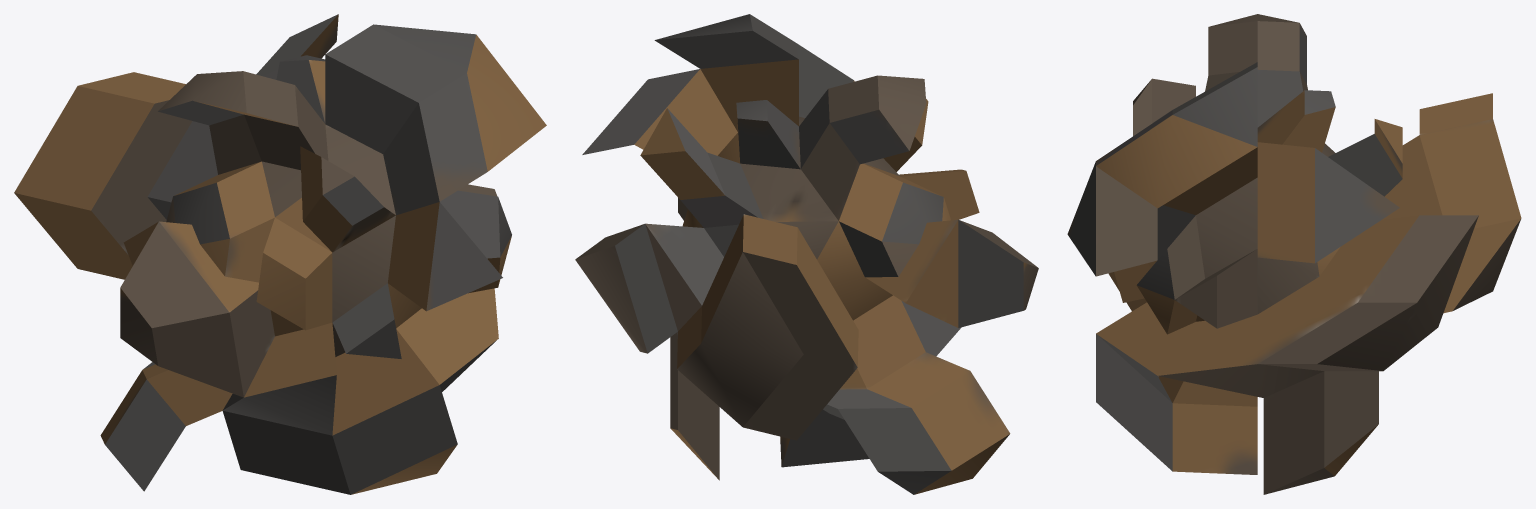
File: gunk.fbx
The picture shows the model from 3 angles, left to right: view 1: azimuth 30°, elevation 25°; view 2: azimuth 150°, elevation 25°; view 3: azimuth 270°, elevation 25°; orthographic projection. The views are drawn at different scales.
Visible parts, largest first — view 1: pPlatonic1; view 2: pPlatonic1; view 3: pPlatonic1.
Part boxes in pixels (bbox=[...]): pPlatonic1: bbox=[14, 14, 546, 494]; pPlatonic1: bbox=[575, 14, 1038, 494]; pPlatonic1: bbox=[1067, 14, 1521, 494].
Size of the model in its own units: 3.8 by 3.96 by 3.86.
Materials: 1 (1 with a texture image).
